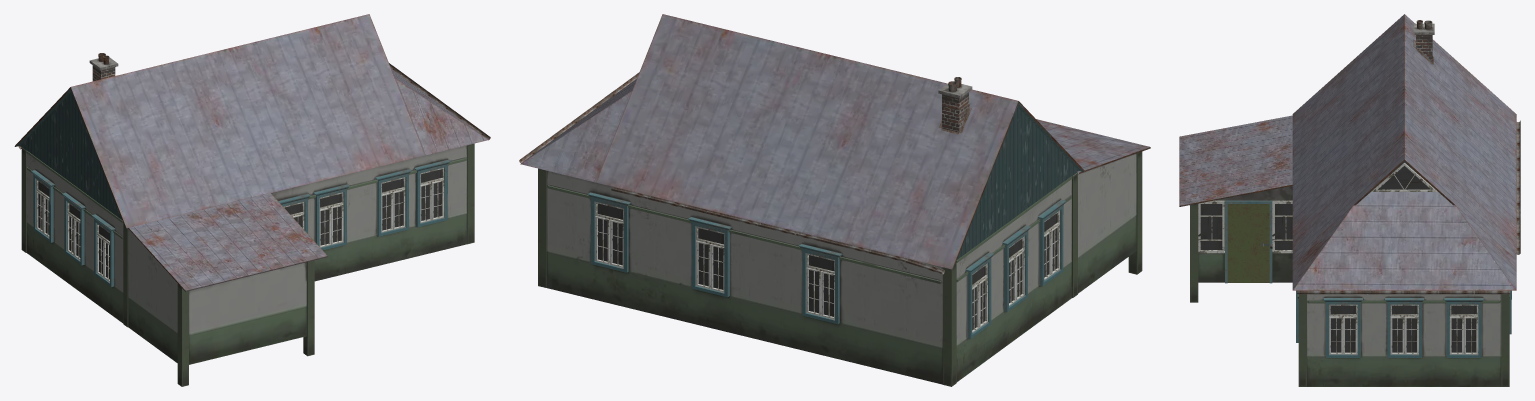
Rendered from house.glb.
3 views of the same model, side by side, from view 1: azimuth 30°, elevation 25°; view 2: azimuth 150°, elevation 25°; view 3: azimuth 270°, elevation 25° (orthographic). The views are drawn at different scales.
Parts seen in each view (by area): view 1: roof_roof_0, walls _walls_0, big window_windows_0, drain pipe_details_0; view 2: roof_roof_0, walls _walls_0, big window_windows_0, drain pipe_details_0; view 3: roof_roof_0, walls _walls_0, big window_windows_0, drain pipe_details_0.
Boxes of the visible parts, <box> form: roof_roof_0: <box>14,14,488,291</box>; walls _walls_0: <box>21,143,474,386</box>; big window_windows_0: <box>31,160,450,286</box>; drain pipe_details_0: <box>18,53,490,149</box>; roof_roof_0: <box>520,14,1150,269</box>; walls _walls_0: <box>538,151,1142,386</box>; big window_windows_0: <box>587,192,1066,339</box>; drain pipe_details_0: <box>519,72,972,274</box>; roof_roof_0: <box>1179,14,1516,290</box>; walls _walls_0: <box>1190,186,1509,386</box>; big window_windows_0: <box>1198,163,1511,357</box>; drain pipe_details_0: <box>1261,20,1520,294</box>.
Bounding box in the file's own units: 13 × 8.01 × 10.51.
Materials: 4 (4 with a texture image).
